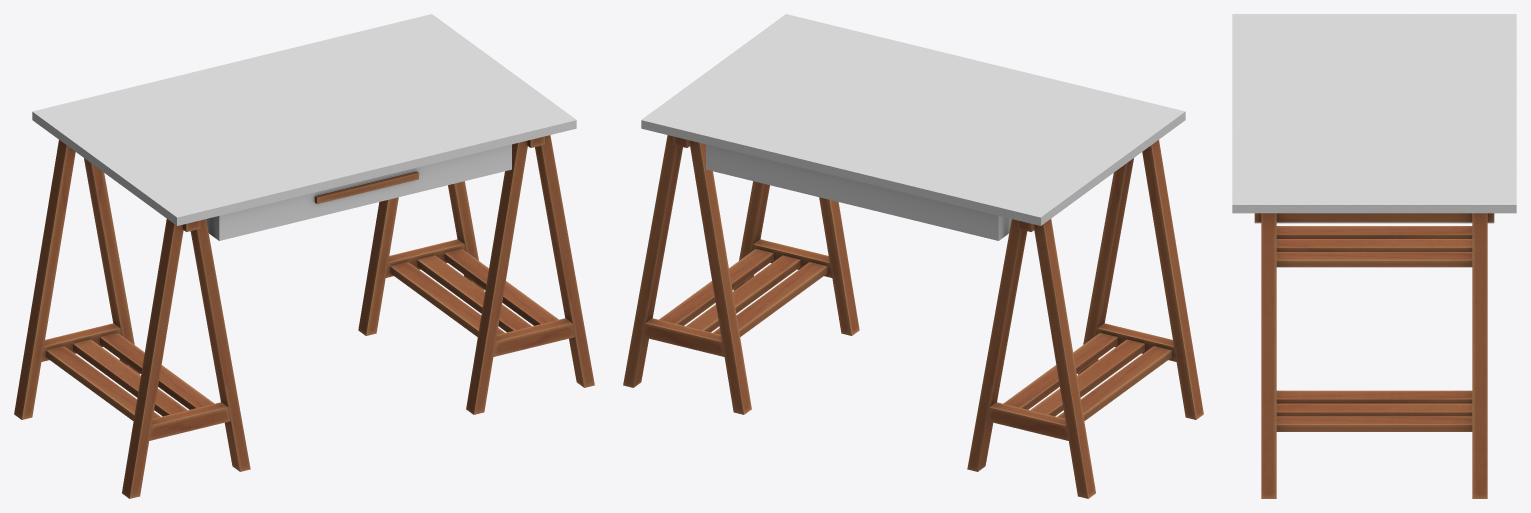
The model's file is writing_desk_1.glb.
3 views of the same model, side by side, from view 1: azimuth 30°, elevation 25°; view 2: azimuth 150°, elevation 25°; view 3: azimuth 270°, elevation 25° (orthographic). The views are drawn at different scales.
Parts seen in each view (by area): view 1: writing desk; view 2: writing desk; view 3: writing desk.
Part boxes in pixels (x1,y1,x2,y2): writing desk: [14, 14, 594, 498]; writing desk: [623, 14, 1203, 498]; writing desk: [1232, 14, 1516, 498].
Bounding box in the file's own units: 4.39 × 2.56 × 2.37.
1 material, 1 textured.
